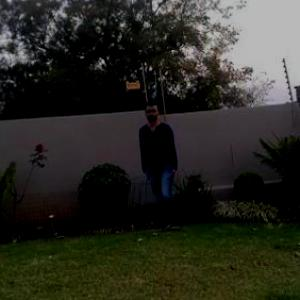follow: (141, 101, 185, 239)
